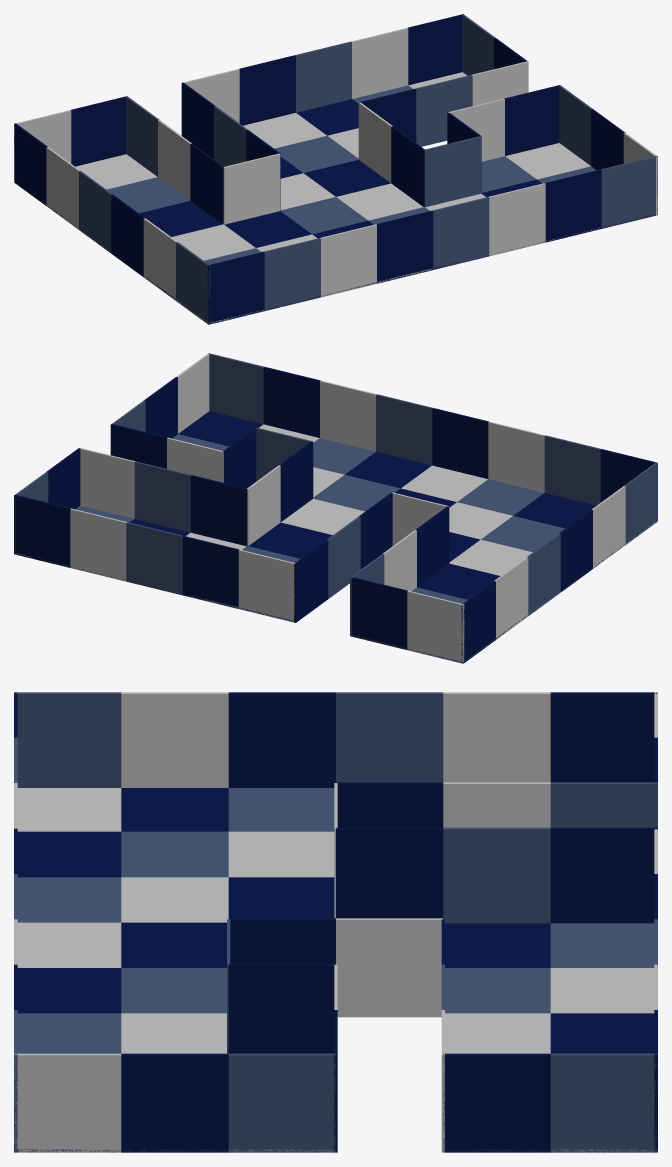
Rendered from JRNC2025.dae.
3 views of the same model, one above another, from view 1: azimuth 30°, elevation 25°; view 2: azimuth 150°, elevation 25°; view 3: azimuth 270°, elevation 25° (orthographic). The views are drawn at different scales.
Parts seen in each view (by area): view 1: 立方体.055, 立方体.062, 立方体.058, 立方体.060, 立方体.056, 立方体.059, 立方体.072, 立方体.082, 立方体.057, 立方体.061, 立方体.066, 立方体.064 (+45 smaller); view 2: 立方体.054, 立方体.065, 立方体.066, 立方体.063, 立方体.064, 立方体.067, 立方体.078, 立方体.068, 立方体.077, 立方体.057, 立方体.059, 立方体.062 (+45 smaller); view 3: 立方体.051, 立方体.050, 立方体.052, 立方体.049, 立方体.053, 立方体.080, 立方体.075, 立方体.044, 立方体.045, 立方体.073, 立方体.043, 立方体.074 (+29 smaller).
Part boxes in pixels (x1,y1,x2,y2): 立方体.055: (207,251,264,324); 立方体.062: (545,169,601,242); 立方体.058: (488,183,545,256); 立方体.060: (376,210,433,283); 立方体.056: (264,238,320,310); 立方体.059: (432,197,489,269); 立方体.072: (223,153,280,224); 立方体.082: (424,136,481,207); 立方体.057: (320,224,376,297); 立方体.061: (601,155,657,228); 立方体.066: (351,28,408,98); 立方体.064: (239,55,295,125); 立方体.054: (407,590,464,663); 立方体.065: (126,522,183,595); 立方体.066: (70,508,126,581); 立方体.063: (14,494,70,567); 立方体.064: (182,536,239,608); 立方体.067: (238,549,295,622); 立方体.078: (190,475,247,546); 立方体.068: (351,577,407,649); 立方体.077: (134,461,191,532); 立方体.057: (488,421,544,492); 立方体.059: (376,394,432,465); 立方体.062: (263,367,320,437); 立方体.051: (121,1053,228,1152); 立方体.050: (228,1053,335,1152); 立方体.052: (443,1053,550,1152); 立方体.049: (14,1053,121,1152); 立方体.053: (550,1053,657,1152); 立方体.080: (336,918,443,1017); 立方体.075: (443,827,550,923); 立方体.044: (121,692,228,787); 立方体.045: (228,692,335,787); 立方体.073: (550,827,657,923); 立方体.043: (14,692,121,787); 立方体.074: (336,827,443,918).
Bounding box in the file's own units: 2.4 × 1.8 × 0.3.
